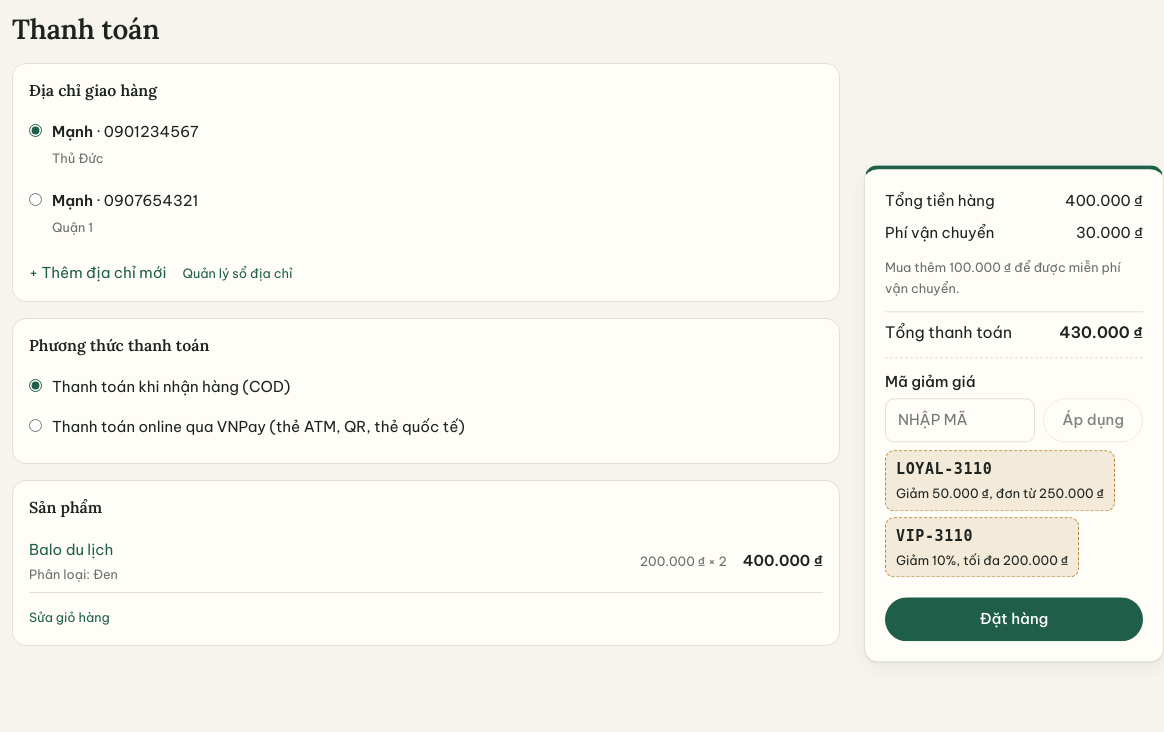
Test: CheckoutPage › mã được tặng hiện thành nút, bấm là áp dụng (US-26)
What coordinates should you click on to do the following:
click the button "LOYAL-3110 Giảm 50.000 ₫, đơn từ 250.000 ₫"
I would click on:
 (1000, 481)
Its box is [885,450,1115,511].
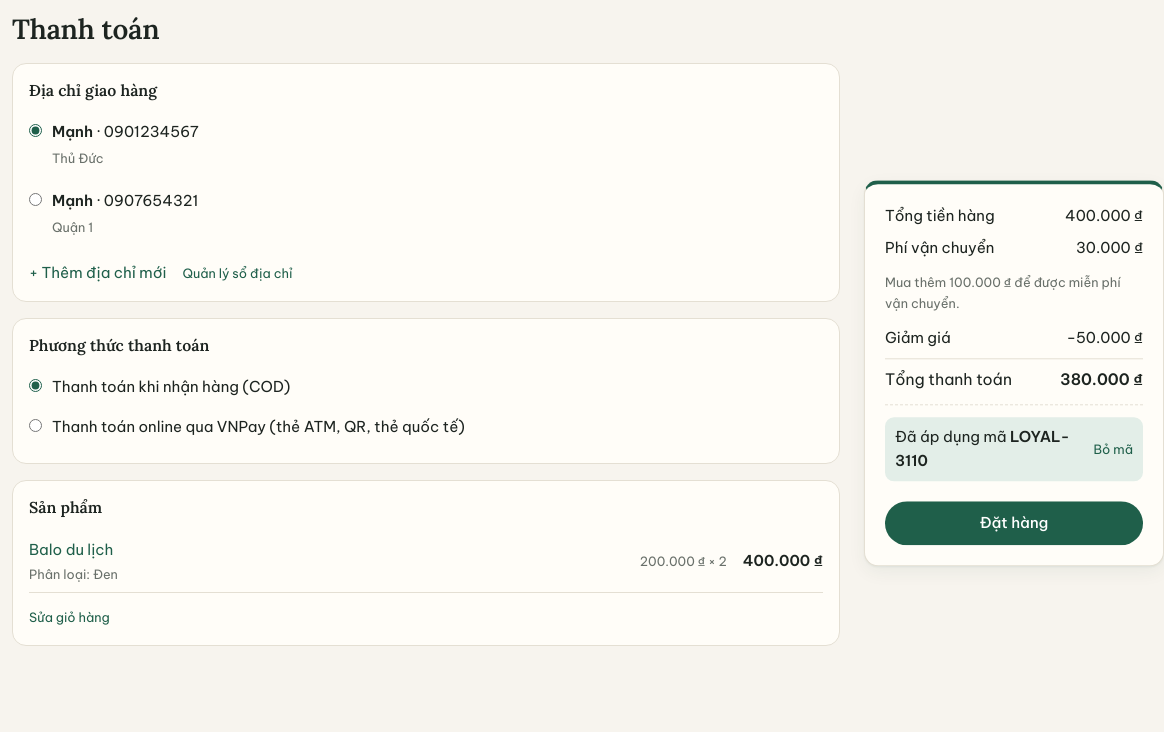
Now the text "−50.000 ₫" is shown, box [1066,326,1143,350]
